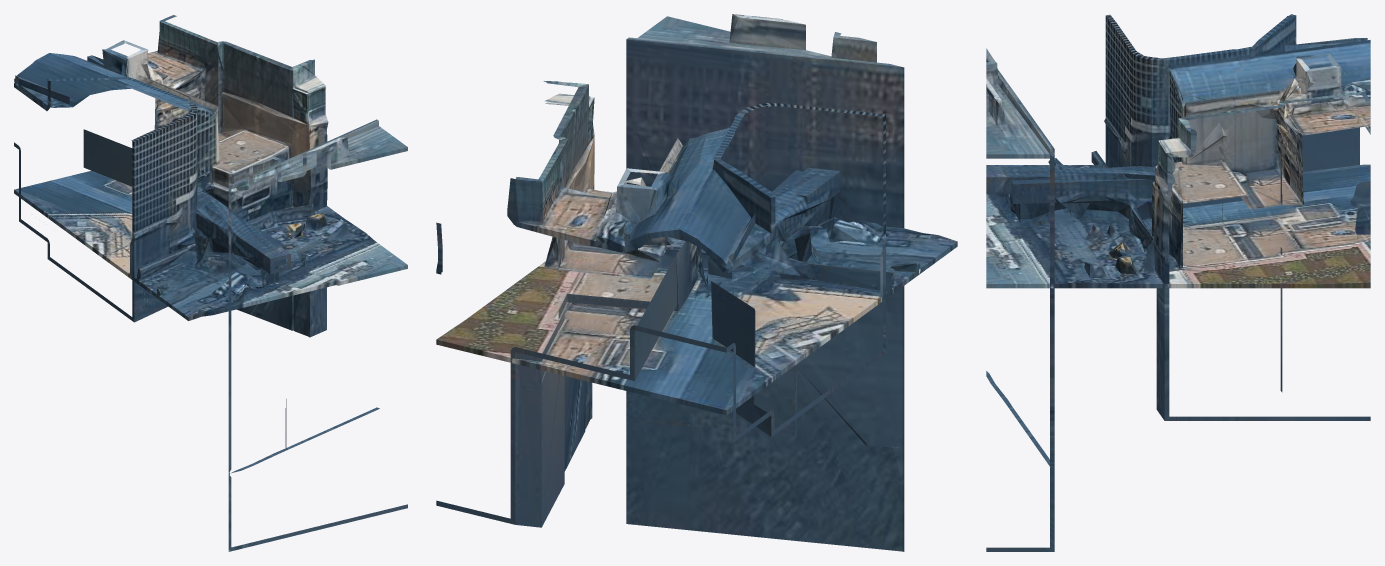
File: chunk_0_9.glb
3 renders of one model, left to right at view 1: azimuth 30°, elevation 25°; view 2: azimuth 150°, elevation 25°; view 3: azimuth 270°, elevation 25°, orthographic. The views are drawn at different scales.
Parts seen in each view (by area): view 1: hero-chunk; view 2: hero-chunk; view 3: hero-chunk.
Part boxes in pixels (bbox=[...]): hero-chunk: bbox=[14, 15, 407, 551]; hero-chunk: bbox=[436, 14, 957, 551]; hero-chunk: bbox=[986, 14, 1370, 551].
Size of the model in its own units: 56.35 by 92.71 by 76.33.
Materials: 3 (3 with a texture image).
